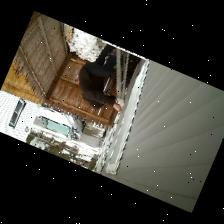person: (79, 43, 122, 111)
